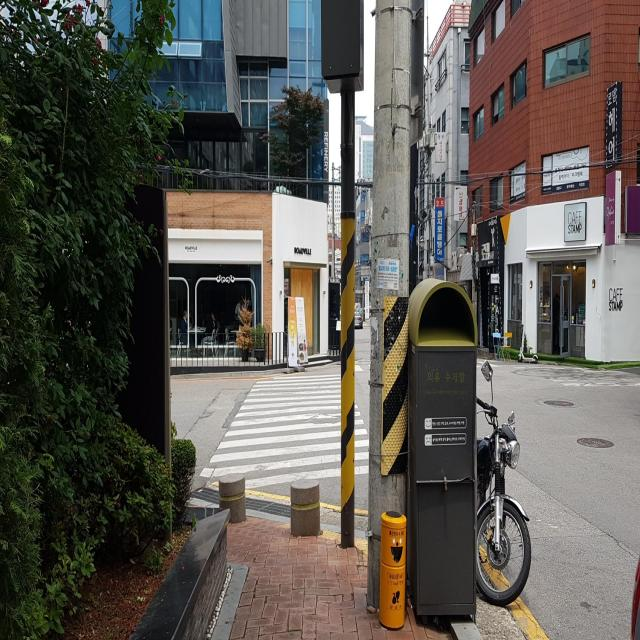횡단보도: (199, 372, 370, 491)
